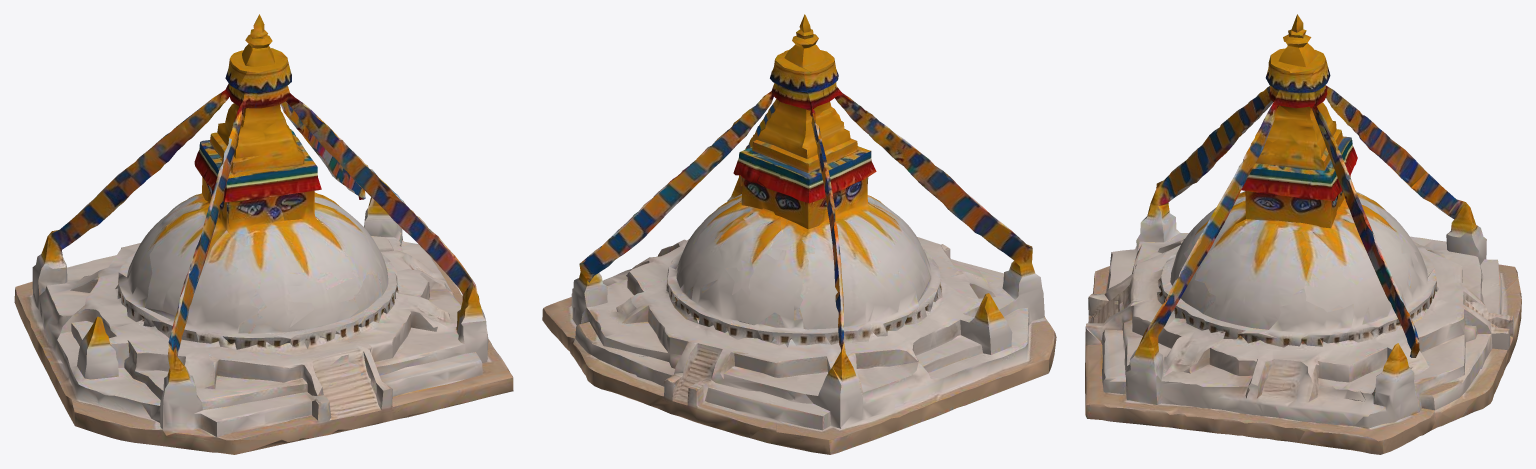
File: boudhanath.glb
3 views of the same model, side by side, from view 1: azimuth 30°, elevation 25°; view 2: azimuth 150°, elevation 25°; view 3: azimuth 270°, elevation 25° (orthographic).
Parts seen in each view (by area): view 1: logan-textured.obj; view 2: logan-textured.obj; view 3: logan-textured.obj.
Boxes of the visible parts, x1,y1,x2,y2 form: logan-textured.obj: (14,14,513,454); logan-textured.obj: (542,14,1056,454); logan-textured.obj: (1085,14,1521,454).
Size of the model in its own units: 1 by 0.7302 by 0.866.
Materials: 1 (1 with a texture image).
